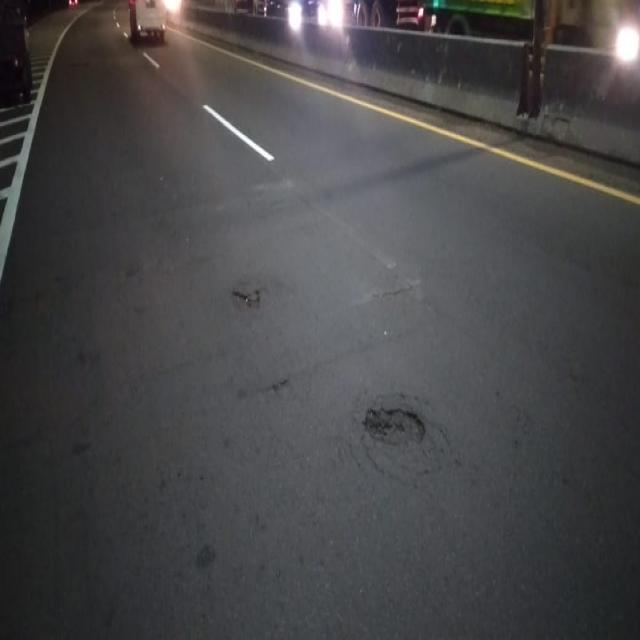Buraco: (358, 404, 430, 450), (228, 287, 265, 315)
